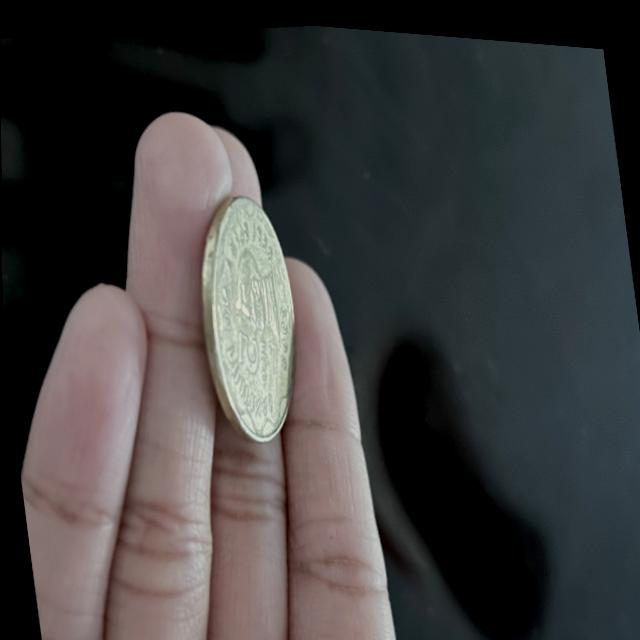5_Old_Front: (195, 211, 303, 420)
